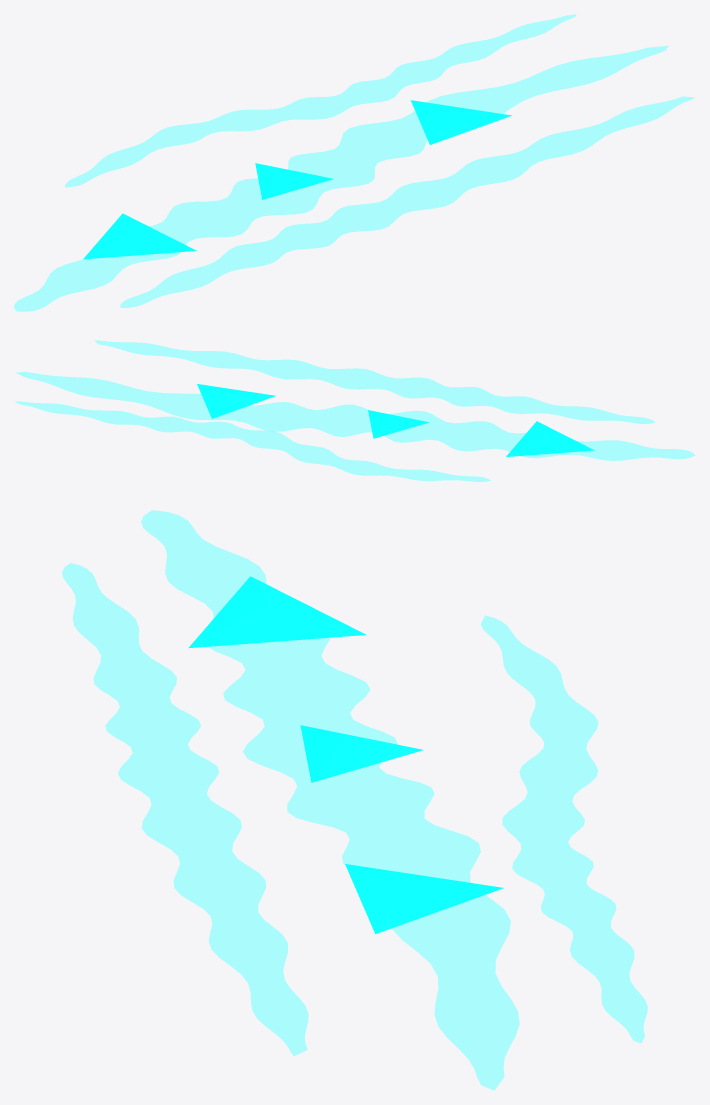
Rendered from wind_ribbon_draco.glb.
3 renders of one model, top to bottom at view 1: azimuth 30°, elevation 25°; view 2: azimuth 150°, elevation 25°; view 3: azimuth 270°, elevation 25°, orthographic. The views are drawn at different scales.
Visible parts, largest first — view 1: wind_flow_main_uv_pan_y, scroll_direction_arrow_1; view 2: wind_flow_main_uv_pan_y, scroll_direction_arrow_1; view 3: wind_flow_main_uv_pan_y, scroll_direction_arrow_1.
Part boxes in pixels (<box>): wind_flow_main_uv_pan_y: <box>14,14,694,311</box>; scroll_direction_arrow_1: <box>83,100,511,259</box>; wind_flow_main_uv_pan_y: <box>15,340,695,481</box>; scroll_direction_arrow_1: <box>197,384,594,456</box>; wind_flow_main_uv_pan_y: <box>62,510,647,1090</box>; scroll_direction_arrow_1: <box>188,576,503,933</box>.
Bounding box in the file's own units: 5.9 × 0.12 × 2.52.
